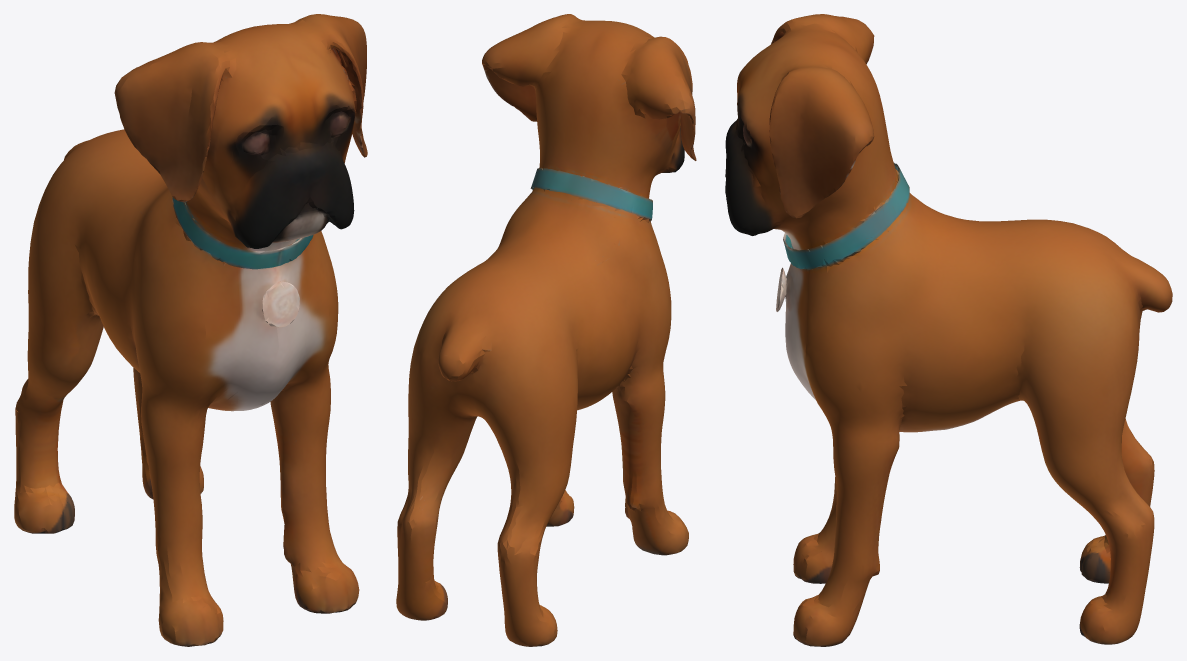
File: bentley_rodin_mv.glb
3 renders of one model, left to right at view 1: azimuth 30°, elevation 25°; view 2: azimuth 150°, elevation 25°; view 3: azimuth 270°, elevation 25°, orthographic. The views are drawn at different scales.
Parts seen in each view (by area): view 1: Bentley_Rodin_MV; view 2: Bentley_Rodin_MV; view 3: Bentley_Rodin_MV.
Boxes of the visible parts, <box> form: Bentley_Rodin_MV: <box>14,14,367,646</box>; Bentley_Rodin_MV: <box>396,14,696,646</box>; Bentley_Rodin_MV: <box>725,14,1172,646</box>.
Bounding box in the file's own units: 0.8298 × 1.9 × 1.36.
Materials: 1 (1 with a texture image).
